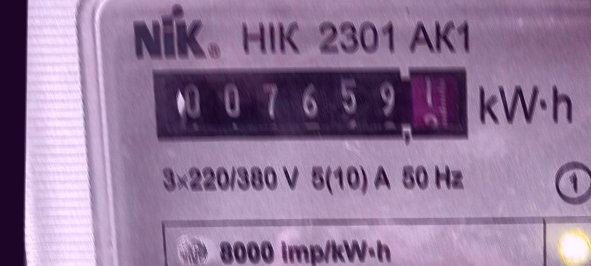0: (221, 82, 244, 119), (182, 81, 203, 120)
1: (421, 73, 437, 109)
5: (339, 77, 359, 114)
6: (299, 82, 321, 118)
7: (259, 81, 280, 119)
9: (377, 80, 398, 117)
screen: (143, 59, 479, 152)
